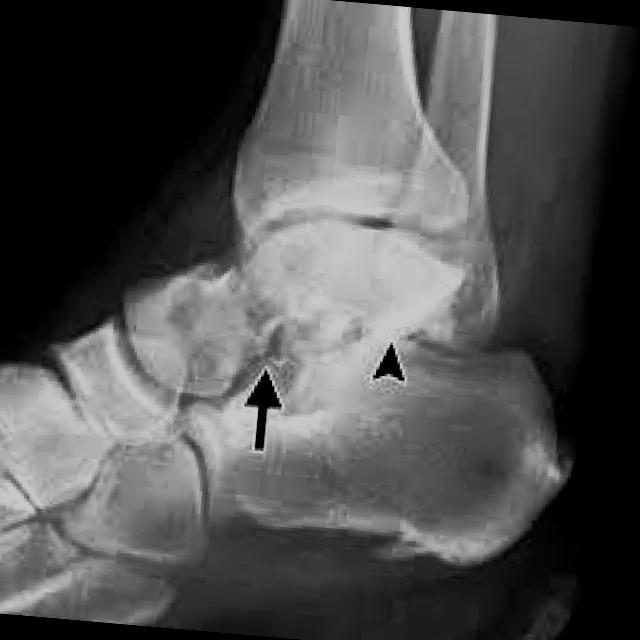Comminuted Fracture: (391, 324, 487, 372), (249, 312, 308, 371), (392, 375, 393, 378)
